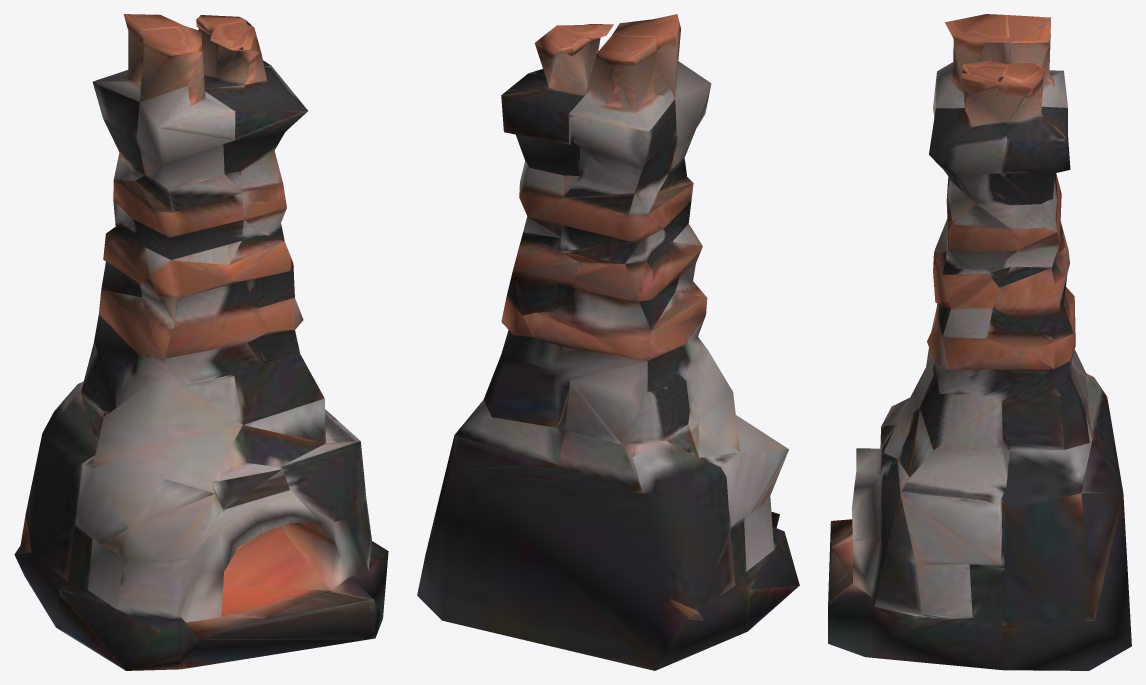
Rendered from repere-cheminee-loin.glb.
3 renders of one model, left to right at view 1: azimuth 30°, elevation 25°; view 2: azimuth 150°, elevation 25°; view 3: azimuth 270°, elevation 25°, orthographic. The views are drawn at different scales.
Parts seen in each view (by area): view 1: repere-cheminee-loin; view 2: repere-cheminee-loin; view 3: repere-cheminee-loin.
Part boxes in pixels (x1,y1,x2,y2): repere-cheminee-loin: [14, 14, 388, 670]; repere-cheminee-loin: [417, 14, 799, 670]; repere-cheminee-loin: [828, 14, 1131, 670].
Size of the model in its own units: 0.9822 by 1.89 by 0.9233.
Materials: 1 (1 with a texture image).
